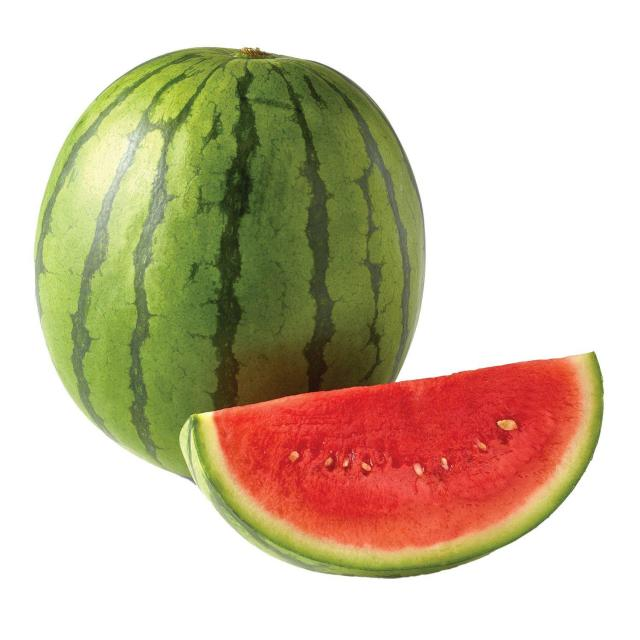watermelon: (31, 33, 433, 489), (175, 345, 611, 581)
